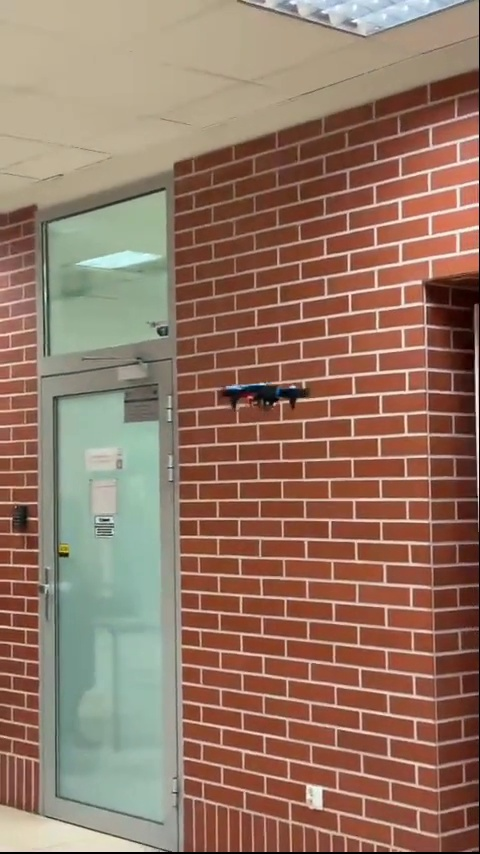drone: (218, 377, 305, 413)
